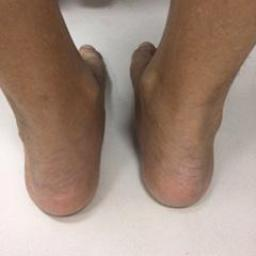Back View -Both Feet-: (5, 19, 238, 226)
